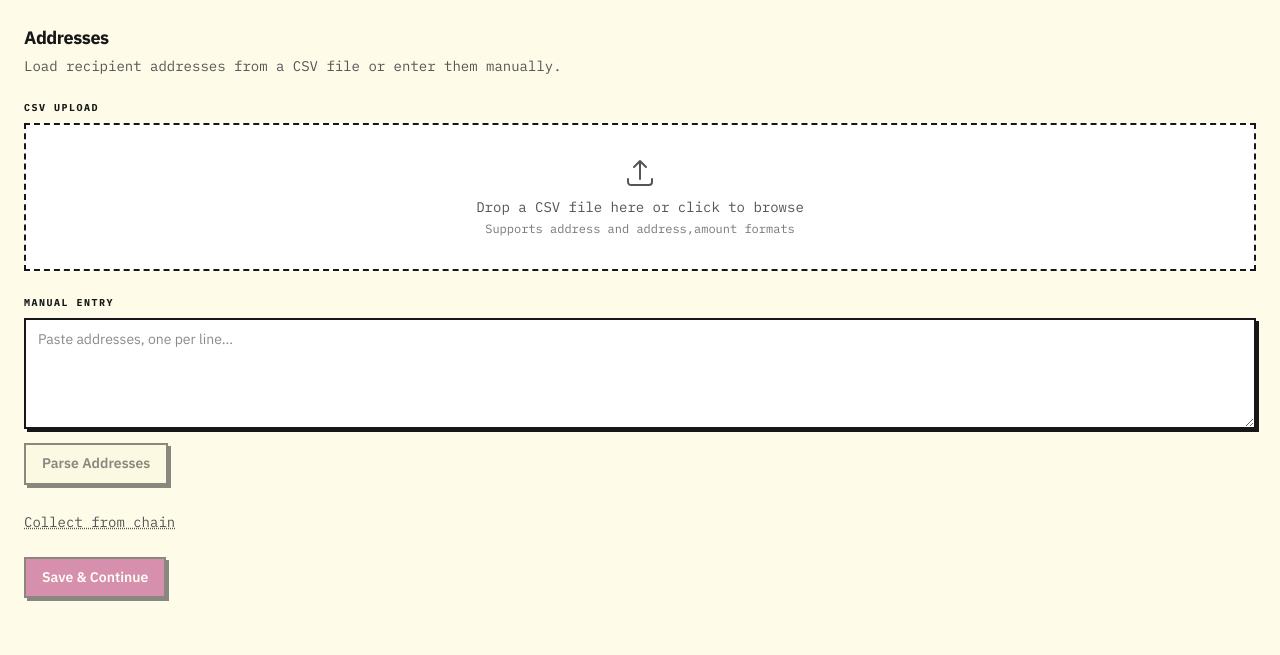
AddressesStep › shows error when collection fails
This screenshot has width=1280, height=655.
Click the button "Collect from chain": (100, 522) [24, 512, 175, 532]
(page scrolled)
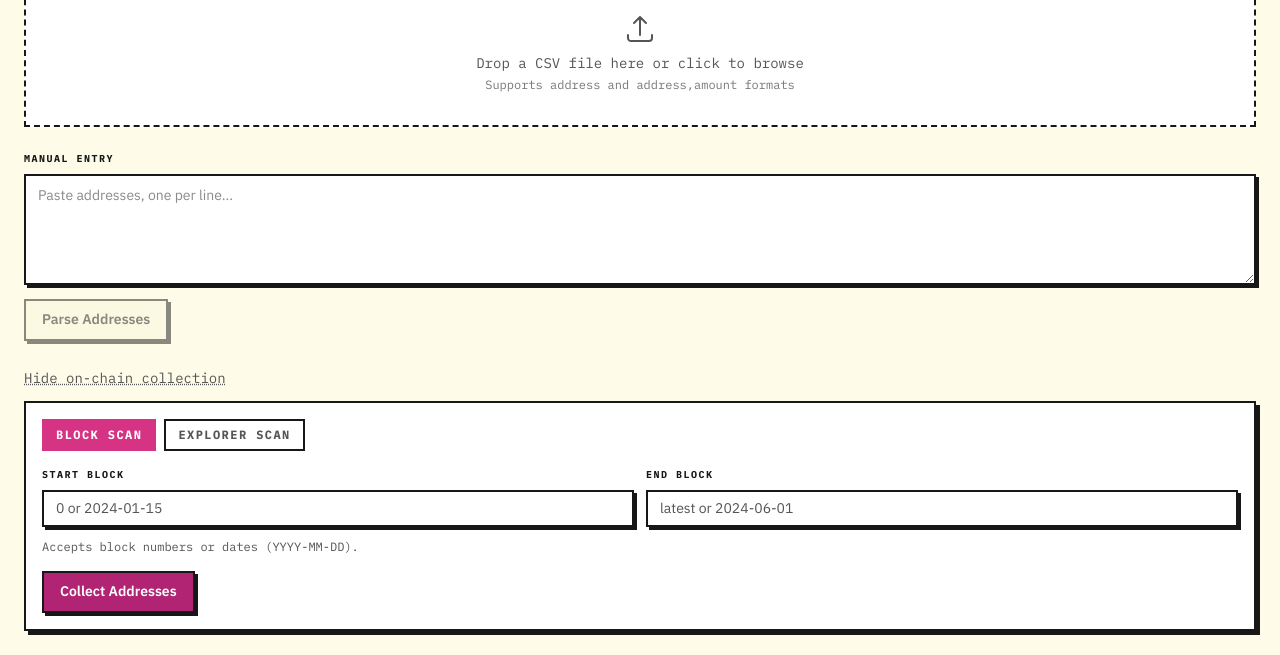
Click the button "Collect Addresses": (118, 592) [42, 571, 195, 612]
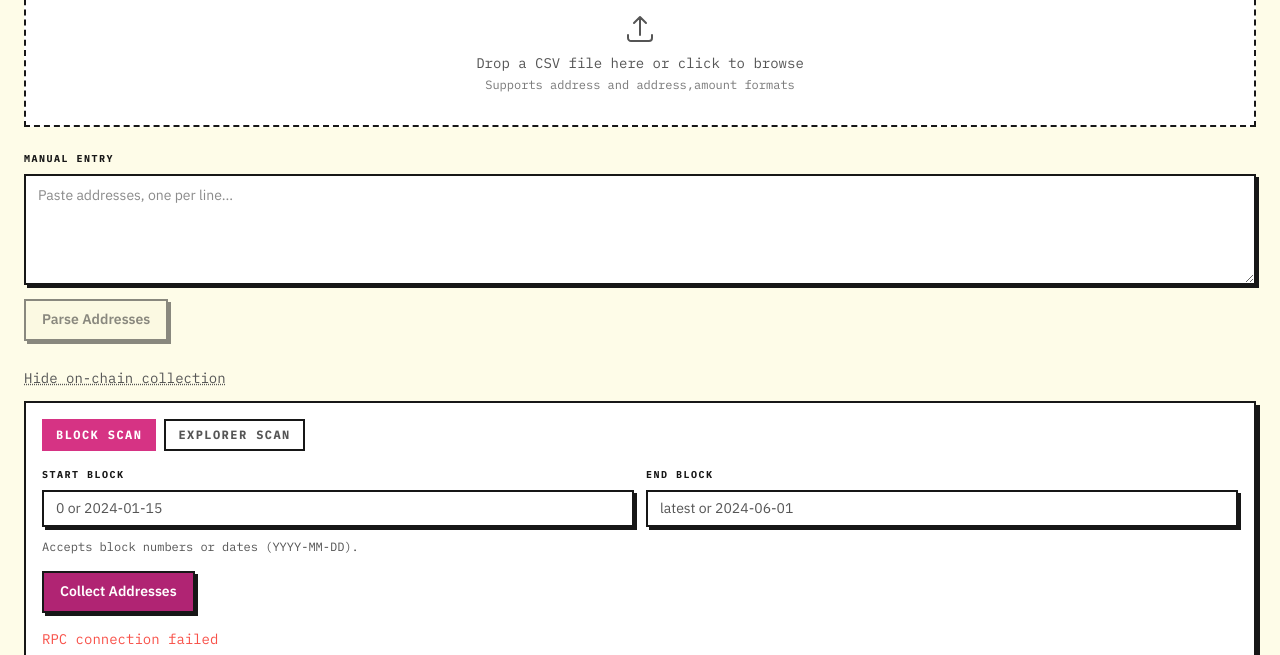
Now the text "RPC connection failed" is shown, box [42, 630, 218, 648]
